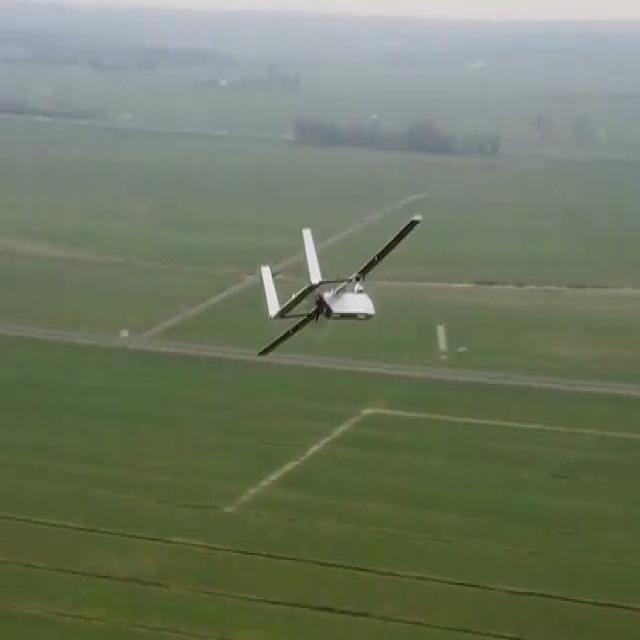iha: (259, 203, 422, 374)
